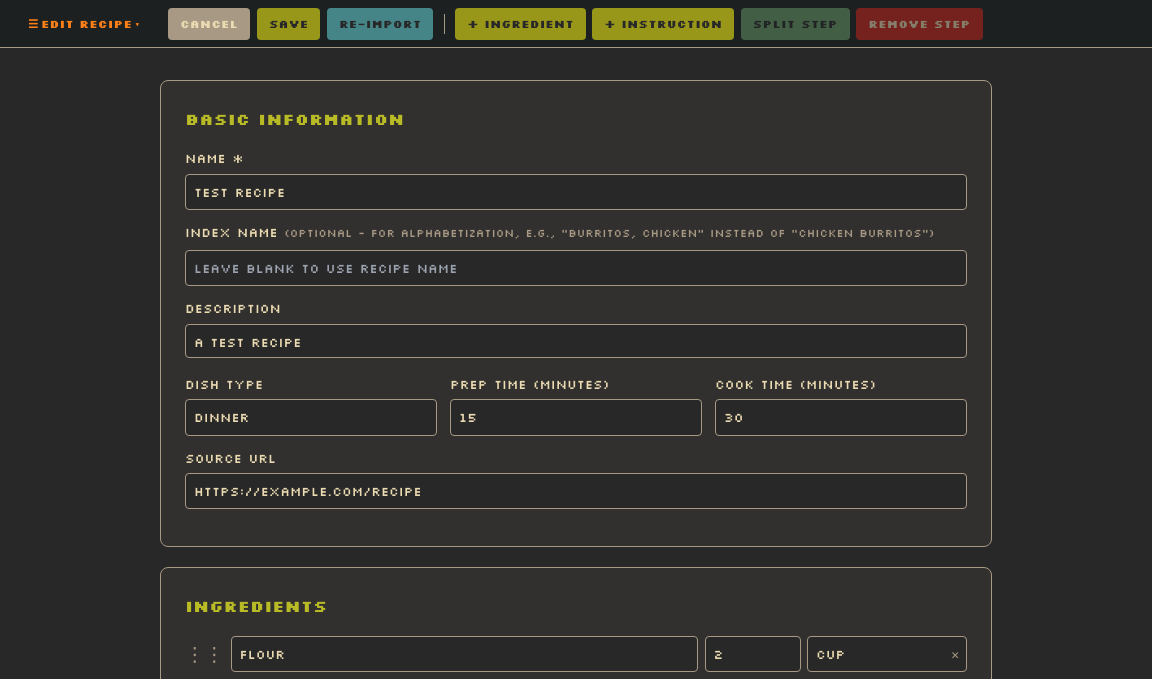
Scenario: RecipeForm › Form Submission › displays API error detail on failure
What coordinates should you click on to do the following:
click the button "Save"
I would click on:
 (288, 24)
Its box is x1=257 y1=8 x2=320 y2=40.
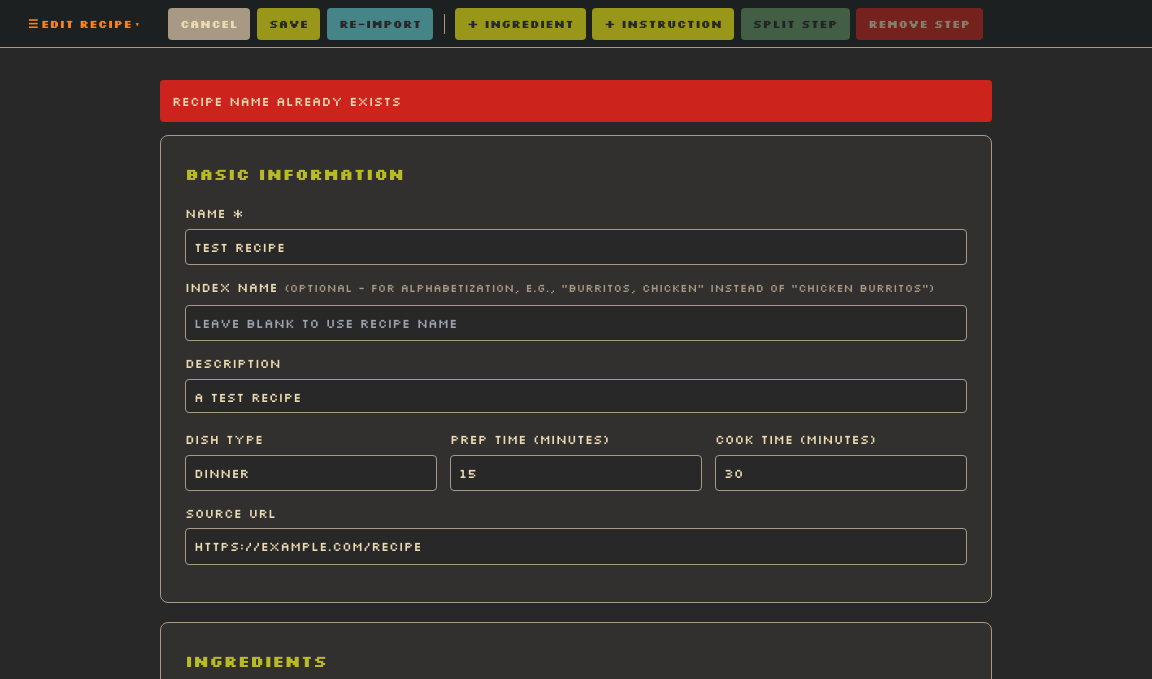
Expected: the text "Recipe name already exists" is shown, x1=160 y1=80 x2=992 y2=122
